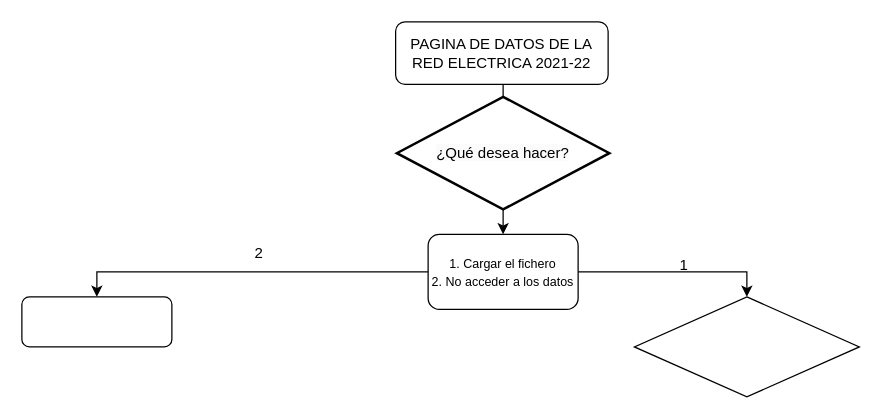
Some shapes in this 881 by 419 pixel diagram are drawn without their labels. The centre of each missing label's shape, as x and y in pixels:
"El programa se finaliza" goes at (x=96, y=321).
"¿Qué" goes at (x=746, y=346).
